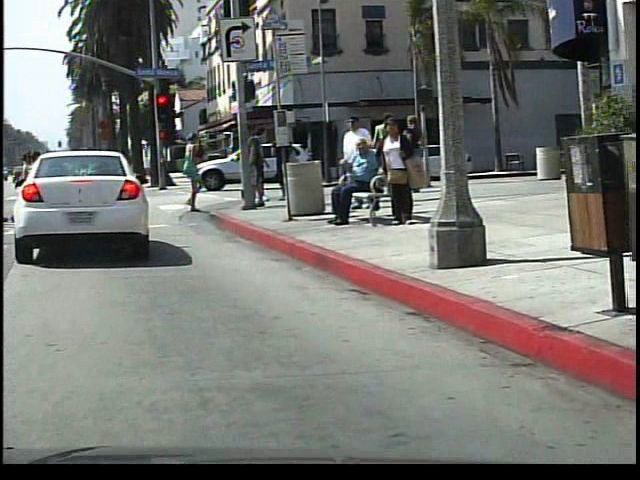person: (331, 142, 389, 226), (380, 117, 418, 234), (175, 127, 221, 218)
